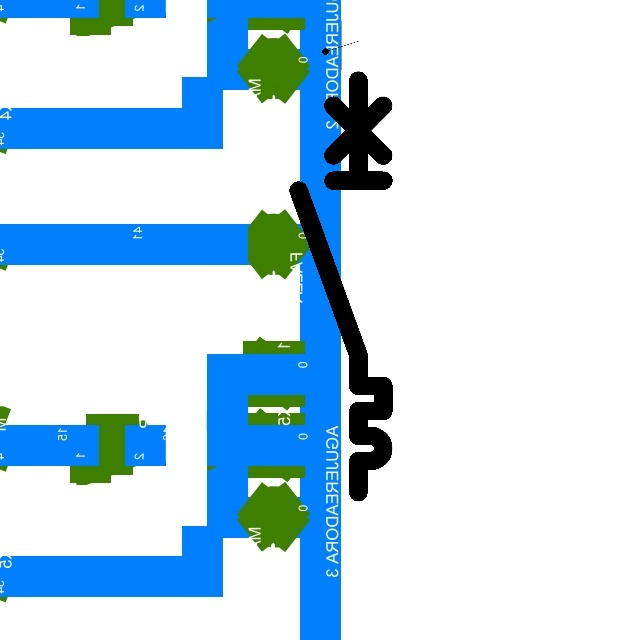interruptor_termomagnetico: (288, 69, 394, 502)
